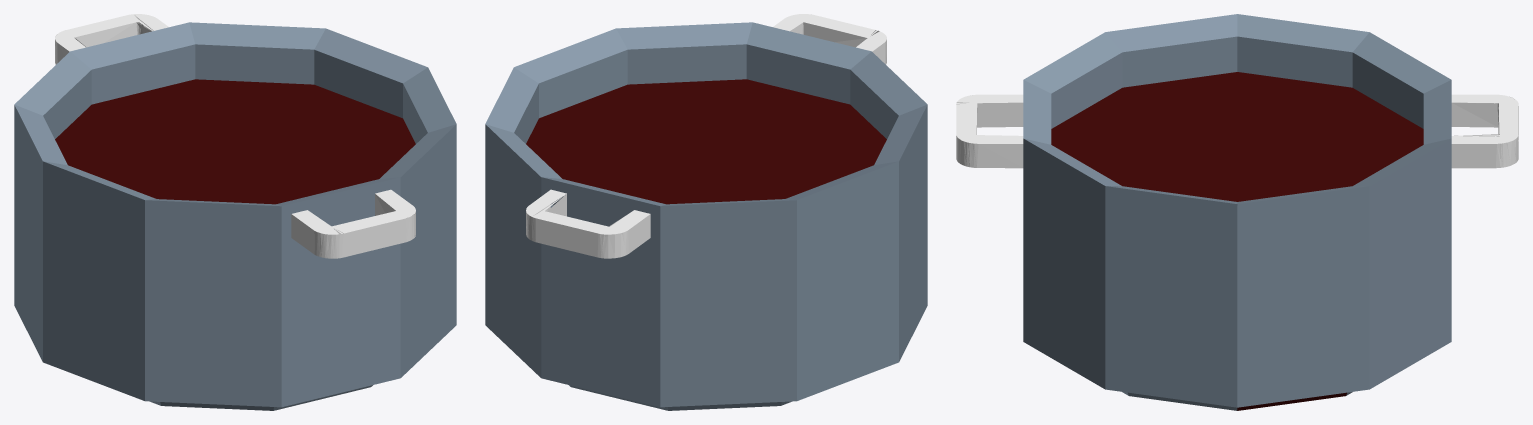
The model's file is potTomato.FBX.
3 views of the same model, side by side, from view 1: azimuth 30°, elevation 25°; view 2: azimuth 150°, elevation 25°; view 3: azimuth 270°, elevation 25° (orthographic).
Visible parts, largest first — view 1: potStew; view 2: potStew; view 3: potStew.
Part boxes in pixels (x1,y1,x2,y2): potStew: (14,14,456,410); potStew: (485,14,927,410); potStew: (956,14,1518,410).
Bounding box in the file's own units: 65.74 × 36.08 × 82.21.
